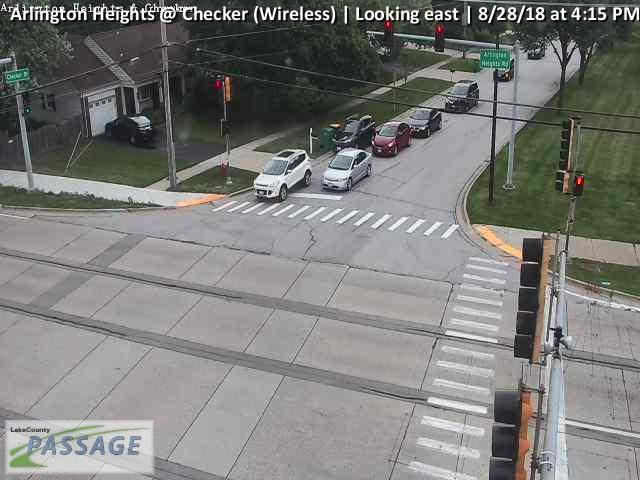SUV: (252, 149, 313, 202), (332, 112, 373, 151), (443, 80, 481, 112), (493, 58, 516, 82)
Sedan: (321, 148, 373, 193), (372, 122, 413, 158), (105, 113, 153, 143), (405, 107, 442, 137), (527, 42, 547, 59)
